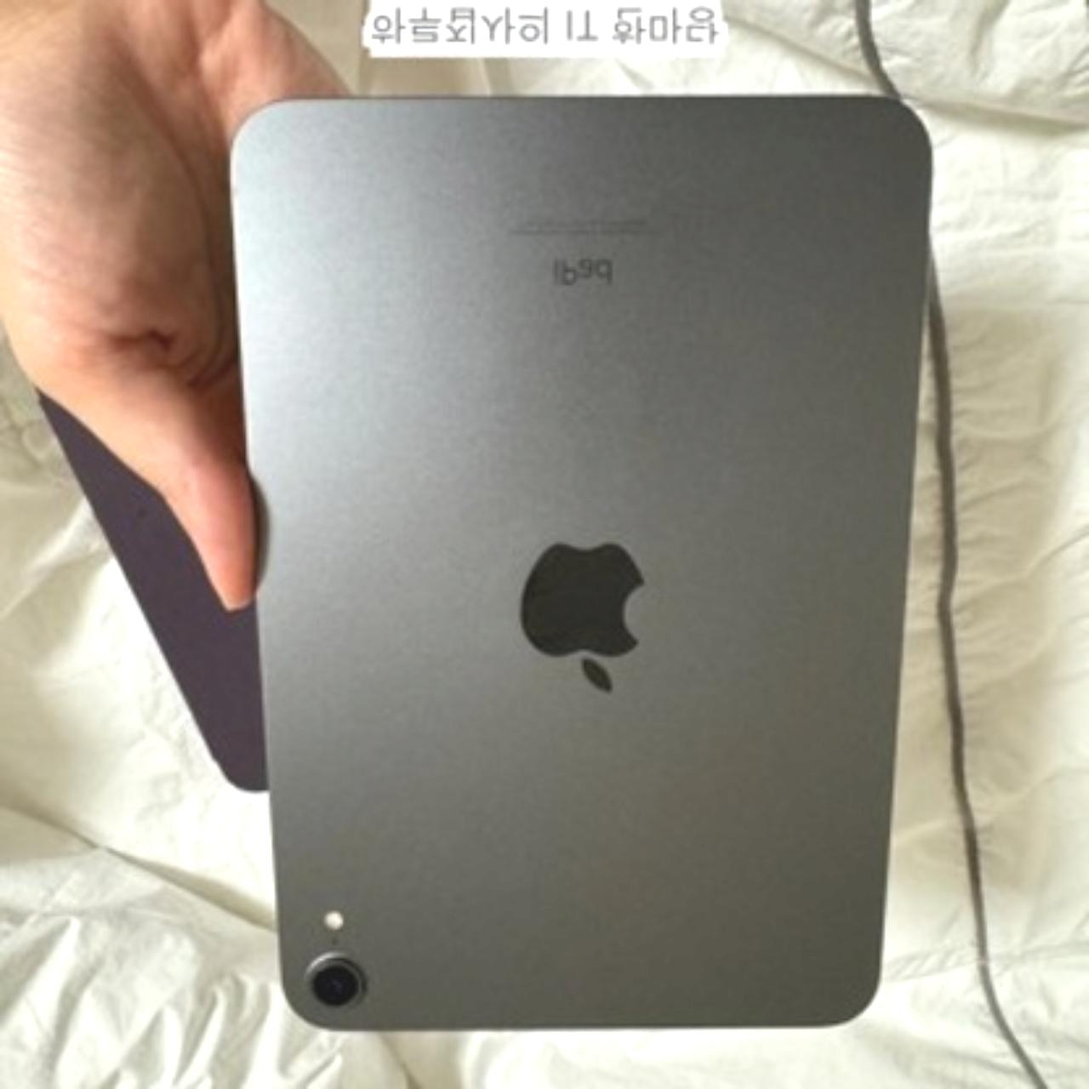Tablet_PC: (204, 78, 953, 1041)
